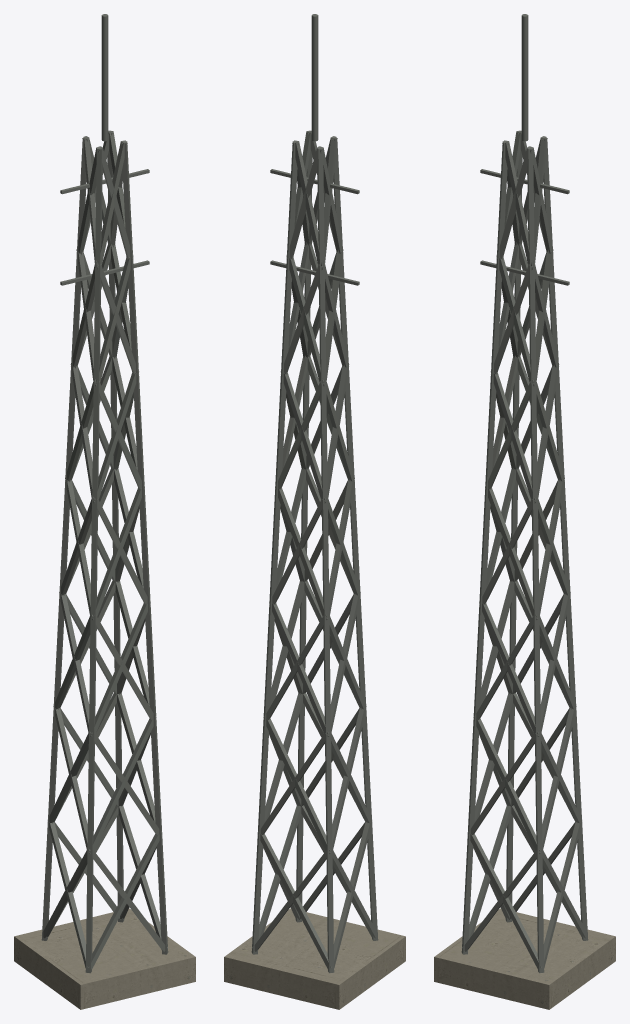
The model's file is antenna_mast.glb.
3 views of the same model, side by side, from view 1: azimuth 30°, elevation 25°; view 2: azimuth 150°, elevation 25°; view 3: azimuth 330°, elevation 25° (orthographic).
Parts seen in each view (by area): view 1: Lattice_mast_steel, Antenna_concrete_base, Antenna_tip; view 2: Lattice_mast_steel, Antenna_concrete_base, Antenna_tip; view 3: Lattice_mast_steel, Antenna_concrete_base, Antenna_tip.
Boxes of the visible parts, x1,y1,x2,y2 form: Lattice_mast_steel: (41,130,168,973); Antenna_concrete_base: (14,908,195,1009); Antenna_tip: (101,14,108,141); Lattice_mast_steel: (251,130,378,973); Antenna_concrete_base: (224,908,405,1009); Antenna_tip: (311,14,318,141); Lattice_mast_steel: (461,130,588,973); Antenna_concrete_base: (434,908,615,1009); Antenna_tip: (521,14,528,141).
Size of the model in its own units: 1.45 by 11.5 by 1.45.
Materials: 2 (1 with a texture image).
